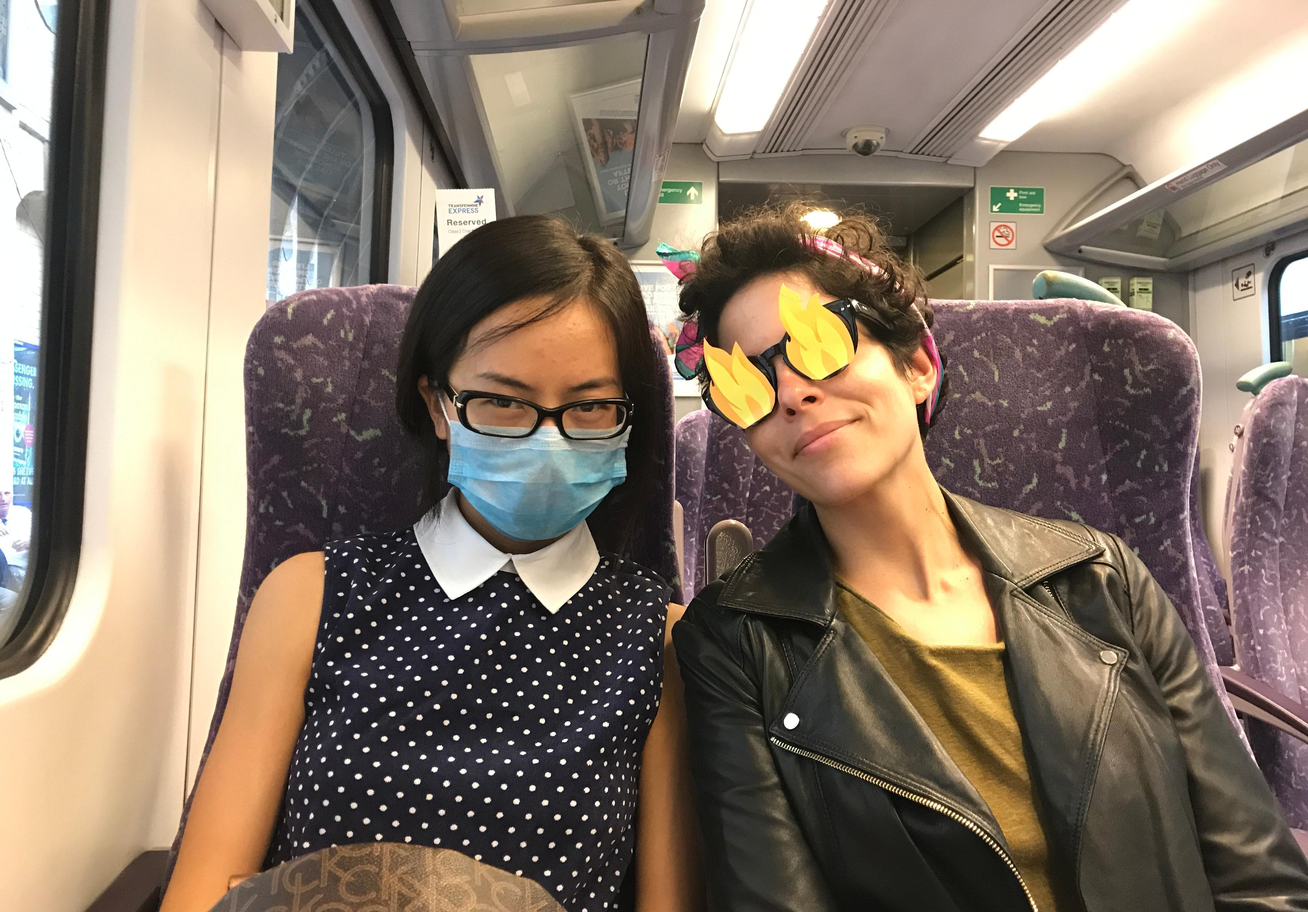NONE: (732, 297, 908, 500)
OK: (430, 353, 623, 546)
